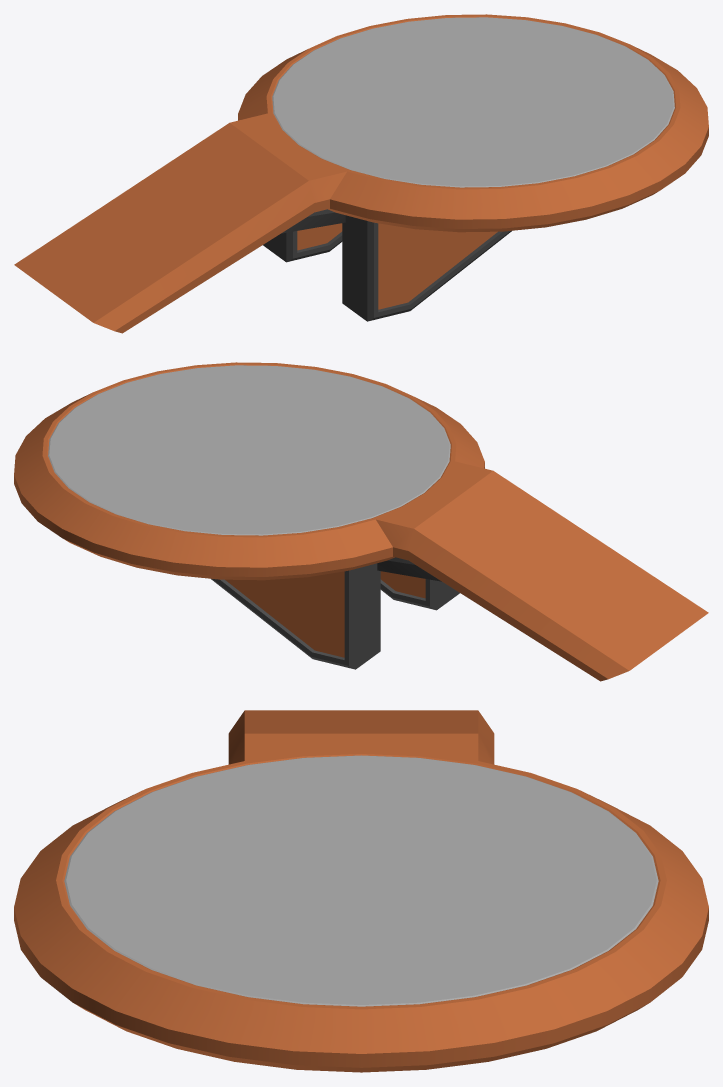
File: env_building_landingpad.fbx
3 renders of one model, top to bottom at view 1: azimuth 30°, elevation 25°; view 2: azimuth 150°, elevation 25°; view 3: azimuth 270°, elevation 25°, orthographic. The views are drawn at different scales.
Parts seen in each view (by area): view 1: polySurface1334; view 2: polySurface1334; view 3: polySurface1334.
Part boxes in pixels (left/top/right/bottom): polySurface1334: left=14, top=14, right=708, bottom=333; polySurface1334: left=14, top=362, right=708, bottom=681; polySurface1334: left=14, top=710, right=708, bottom=1072.
Size of the model in its own units: 2.57 by 0.5594 by 1.68.
